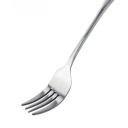fork: (18, 1, 117, 123)
